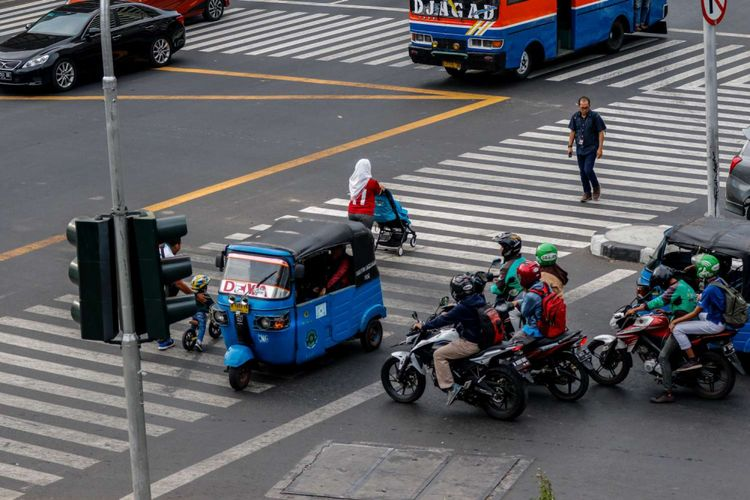car: (224, 213, 391, 390), (410, 1, 670, 83), (2, 4, 186, 94), (633, 217, 750, 357)
motorbike: (591, 255, 738, 414), (380, 278, 529, 426), (491, 265, 593, 401), (486, 233, 572, 360)
